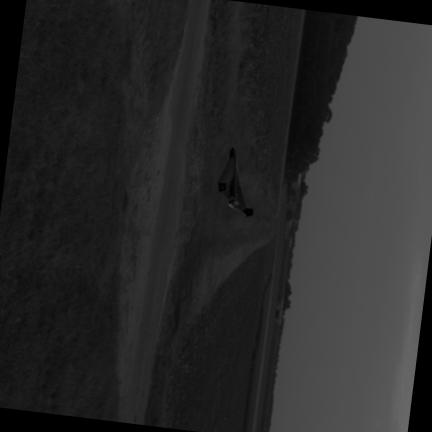Shahed: (218, 148, 251, 216)
